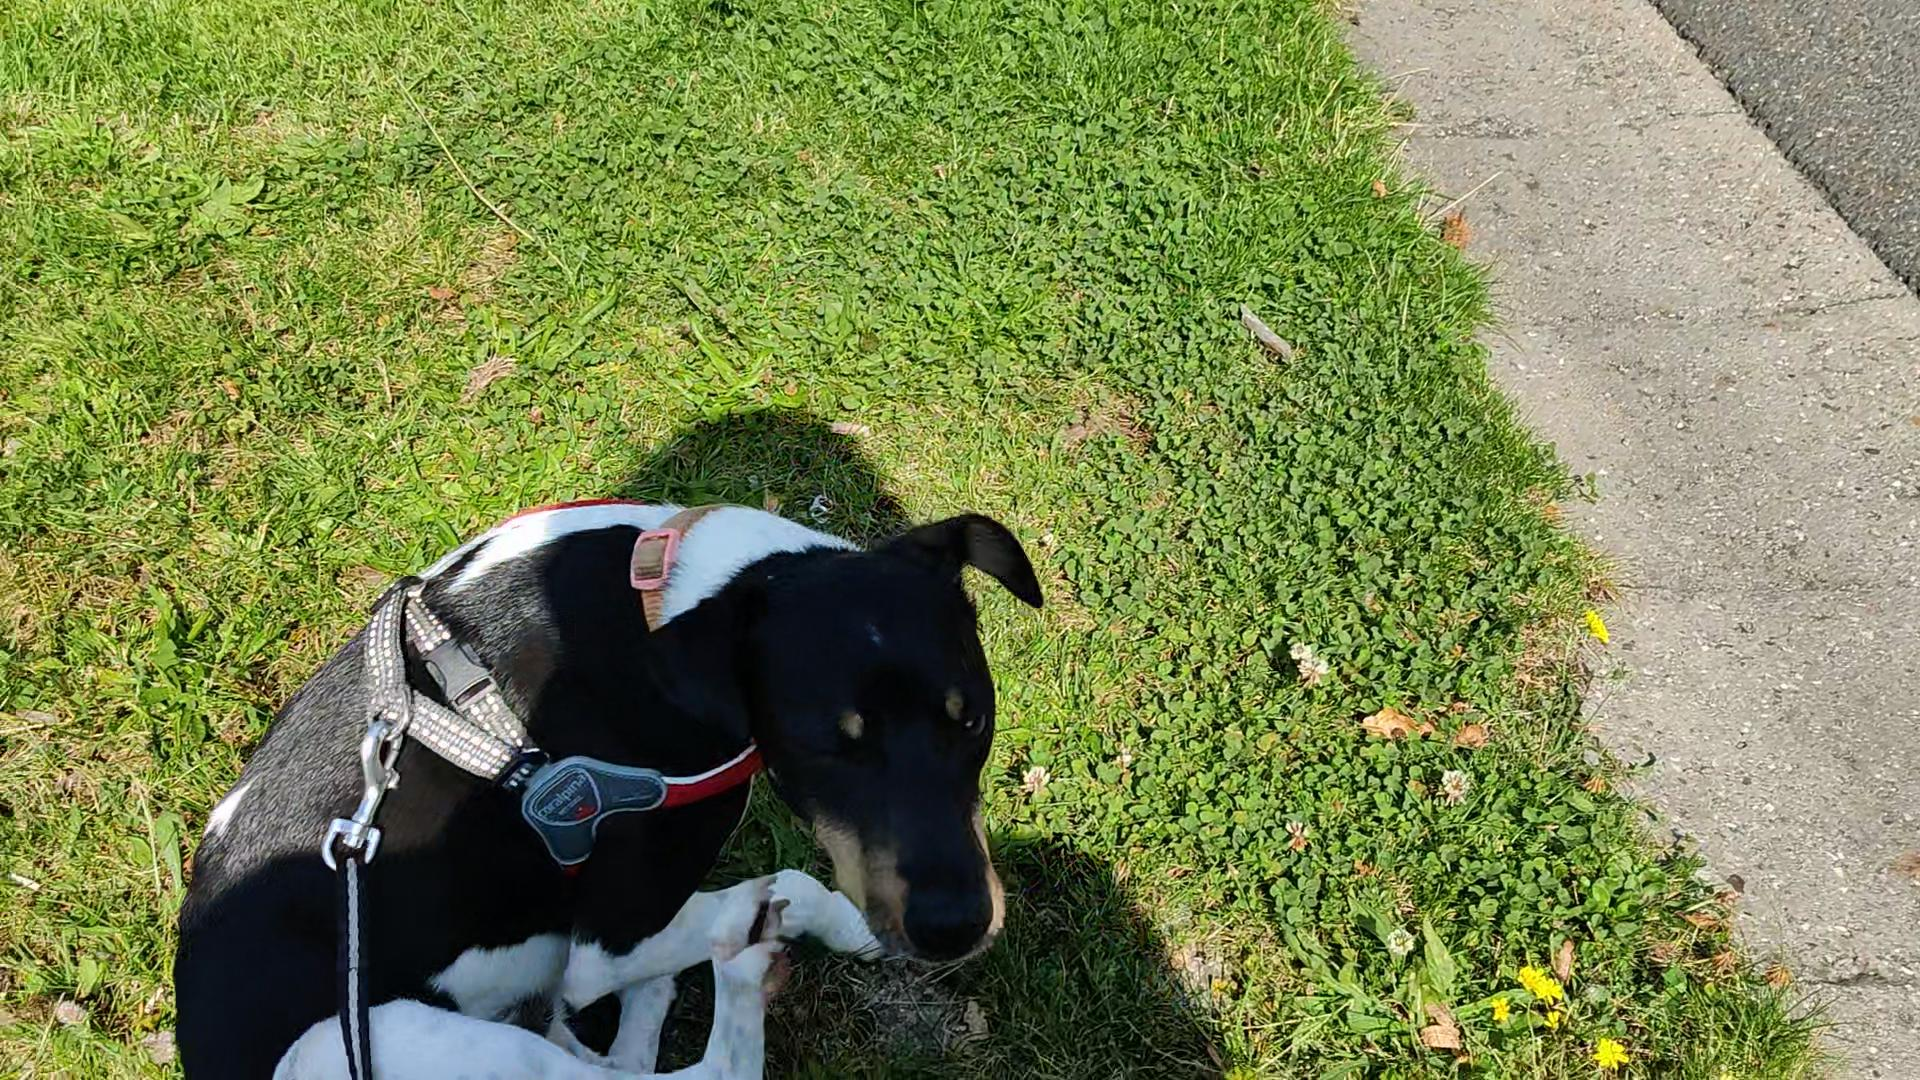Dog: (164, 484, 1046, 1079)
